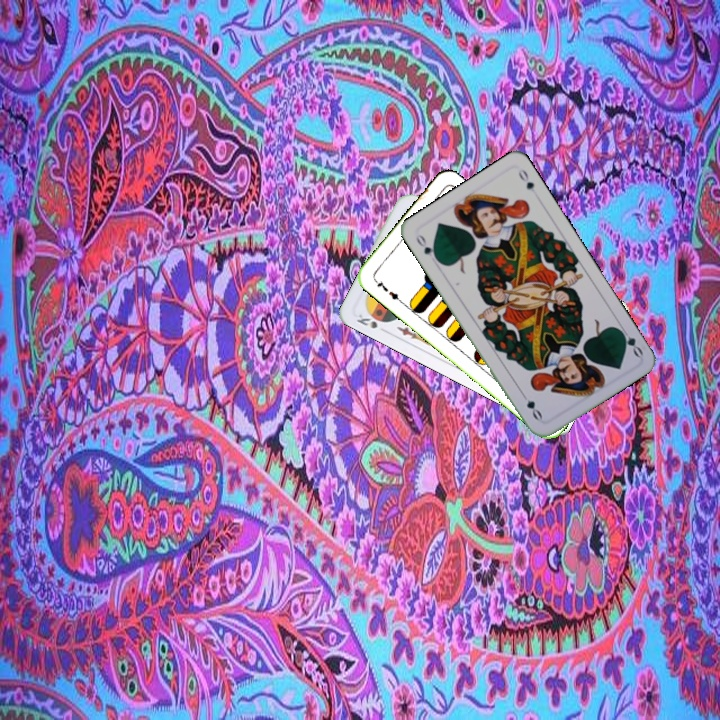E7: (370, 275, 404, 305)
GO: (614, 322, 646, 360), (412, 230, 442, 264)
SK: (352, 309, 389, 331)
